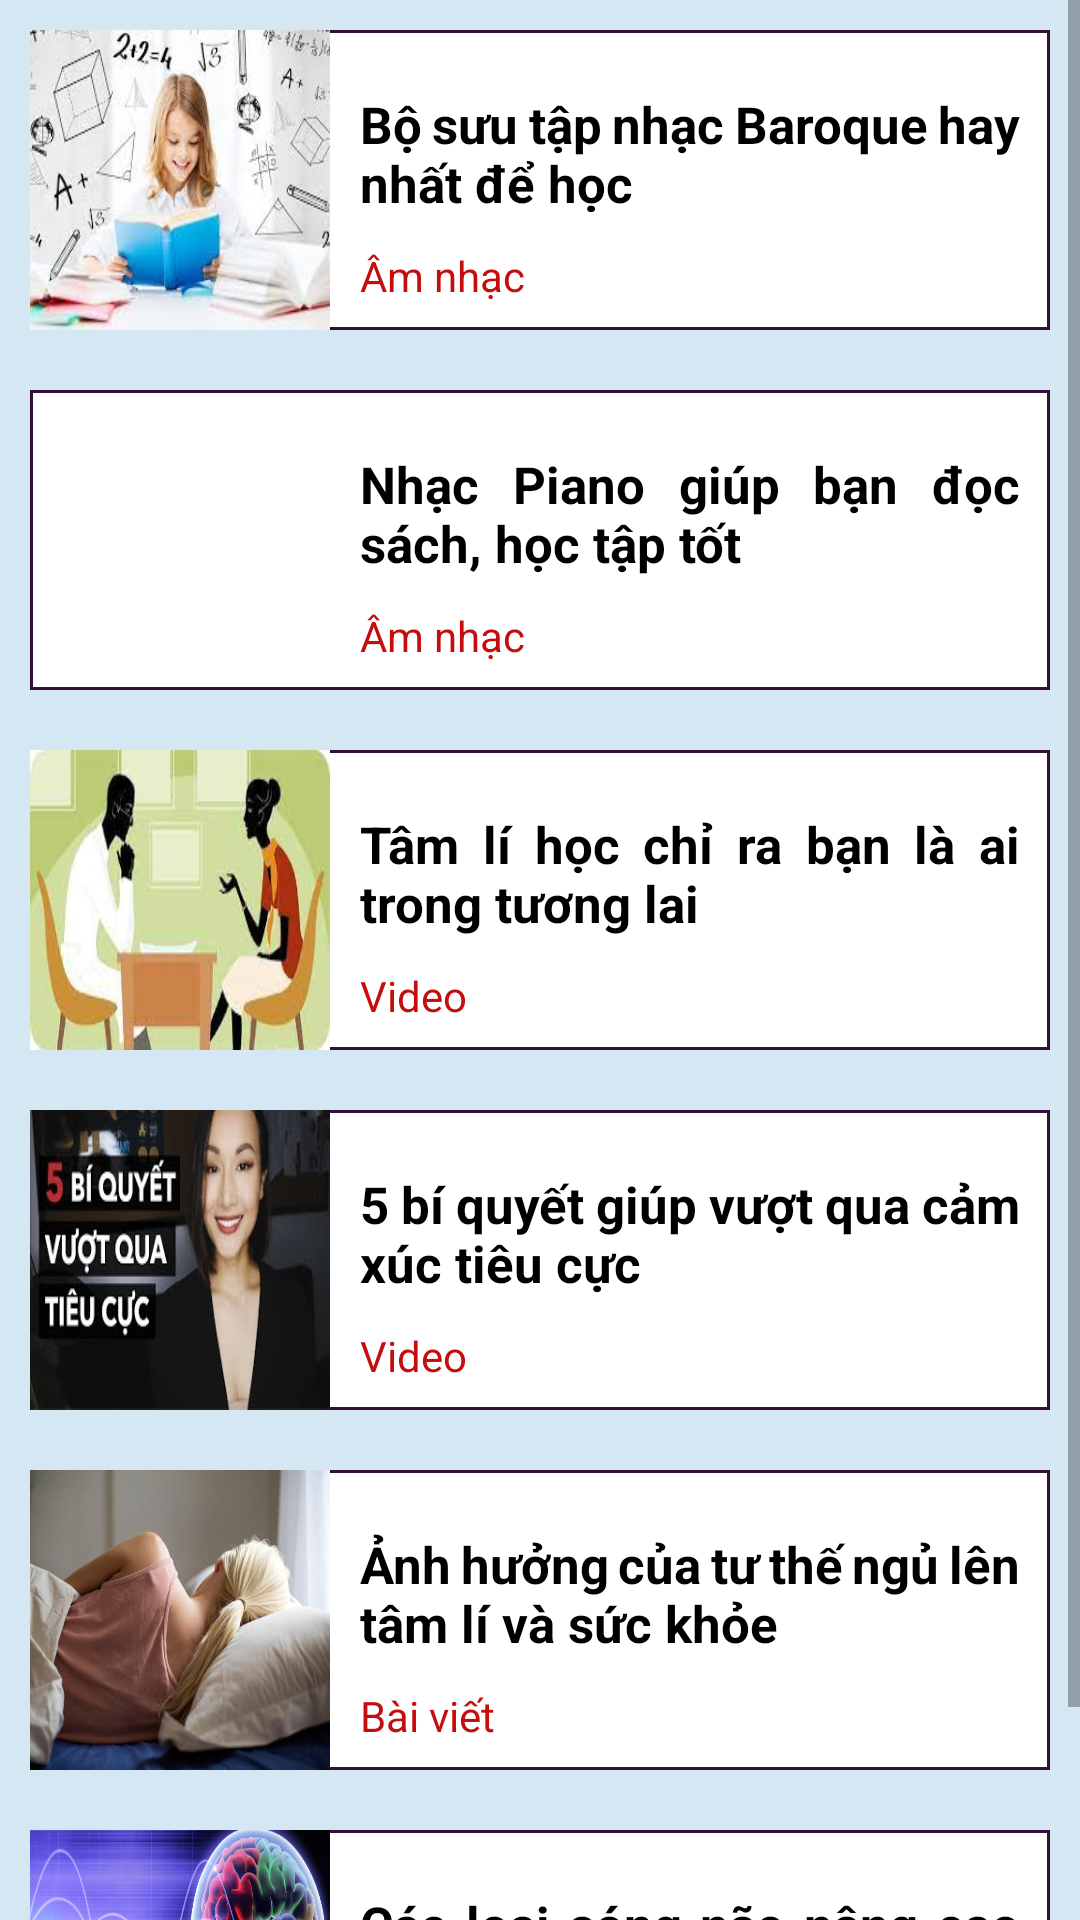

Where to tap for icons on this 1080×1920 app screen, as [x,y]:
hoctap: [180,180]
ngu: [180,1620]
tuvan: [180,900]
